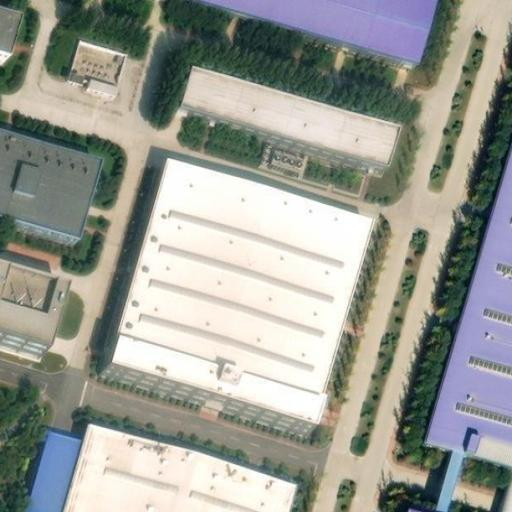building: (107, 153, 385, 421), (430, 167, 512, 512), (62, 416, 303, 512), (181, 62, 401, 162), (29, 430, 84, 512), (60, 34, 128, 97), (0, 235, 59, 274), (0, 3, 19, 55), (493, 479, 512, 512)
